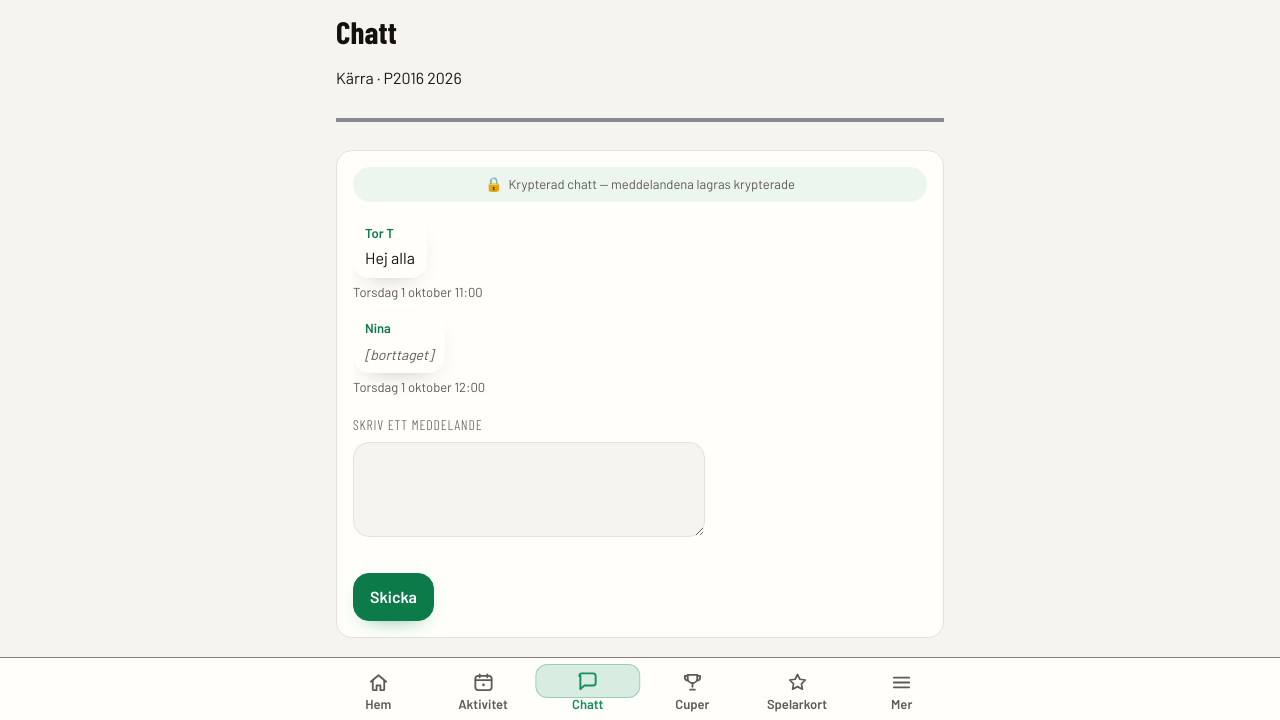
Test: trupp-chatt › anmälan kräver en motivering och POST:ar den, med kvitto
This screenshot has width=1280, height=720.
// Valen ligger bakom långtryck-menyn nu — öppna den från bubblan (högerklick/kontextmeny).
Right-click the button "Tor T Hej alla" at (390, 247), box [353,216,427,278]
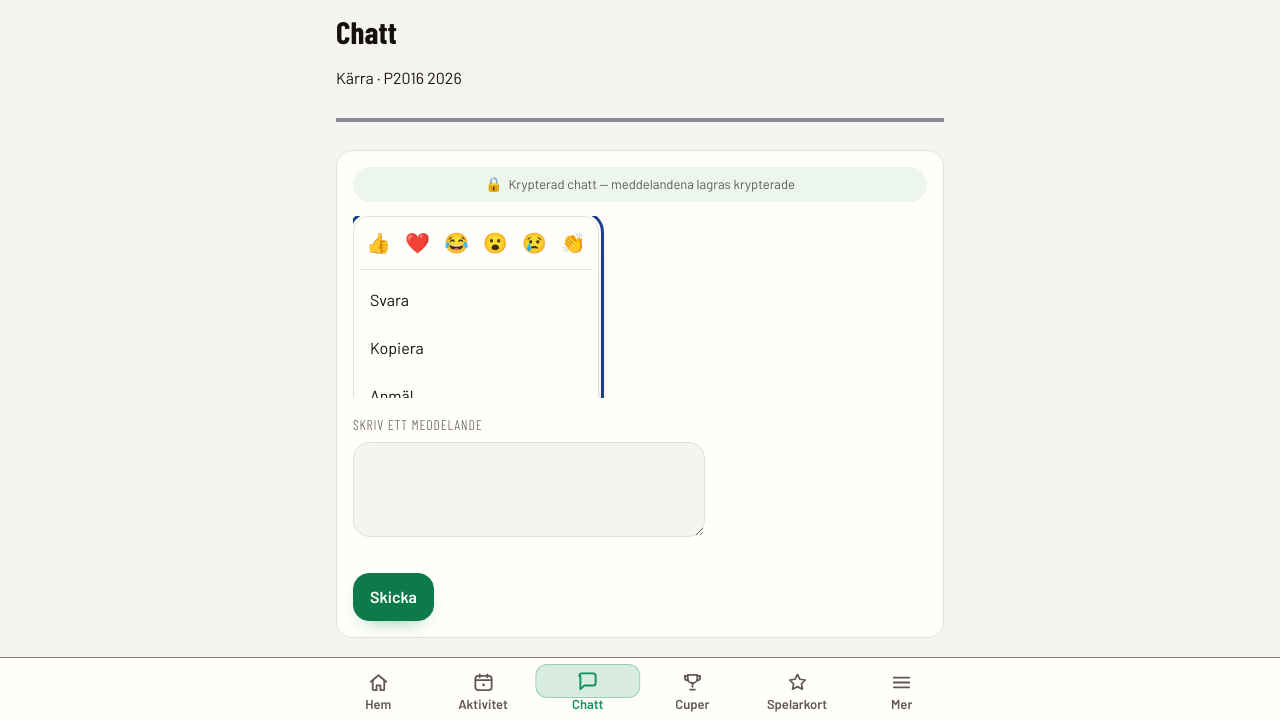
Click the button "Anmäl" at (476, 396), box [360,372,592,420]
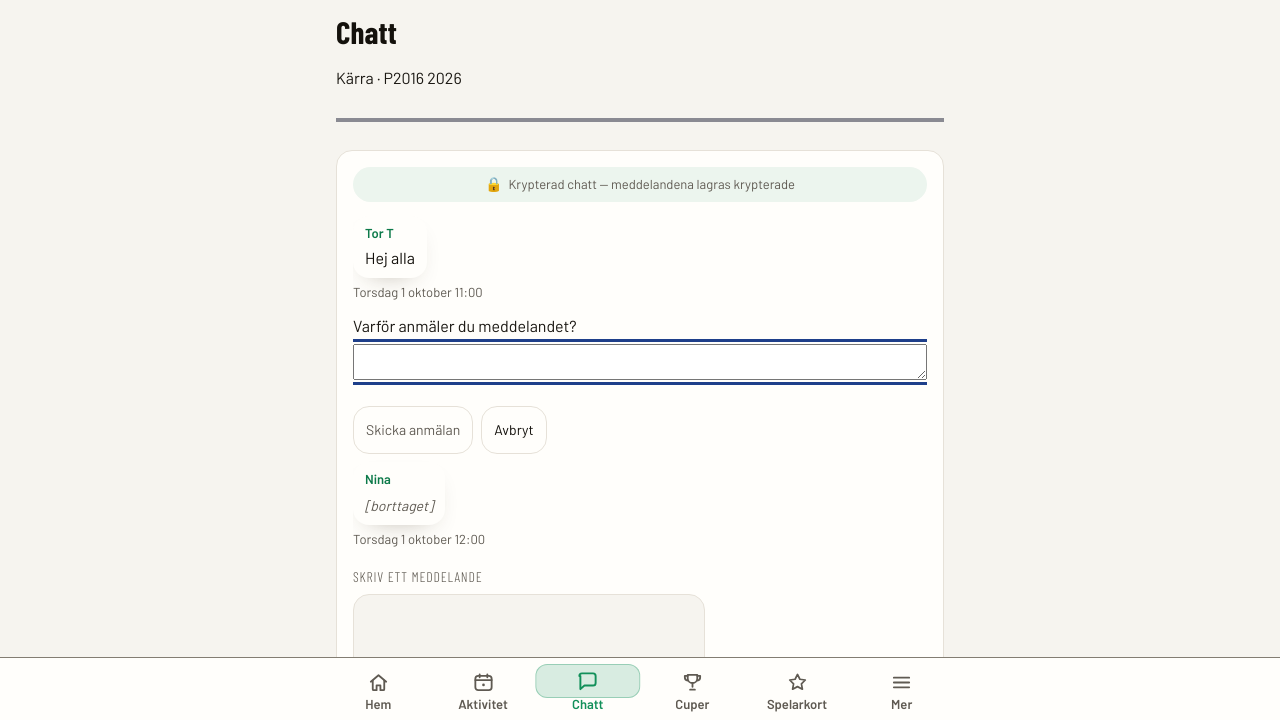
Expected: the button "Skicka anmälan" is disabled, [353,406,473,454]
Type "Stötande språk" into the text box labelled "Varför anmäler du meddelandet?" at (640, 362), box [353,344,927,380]
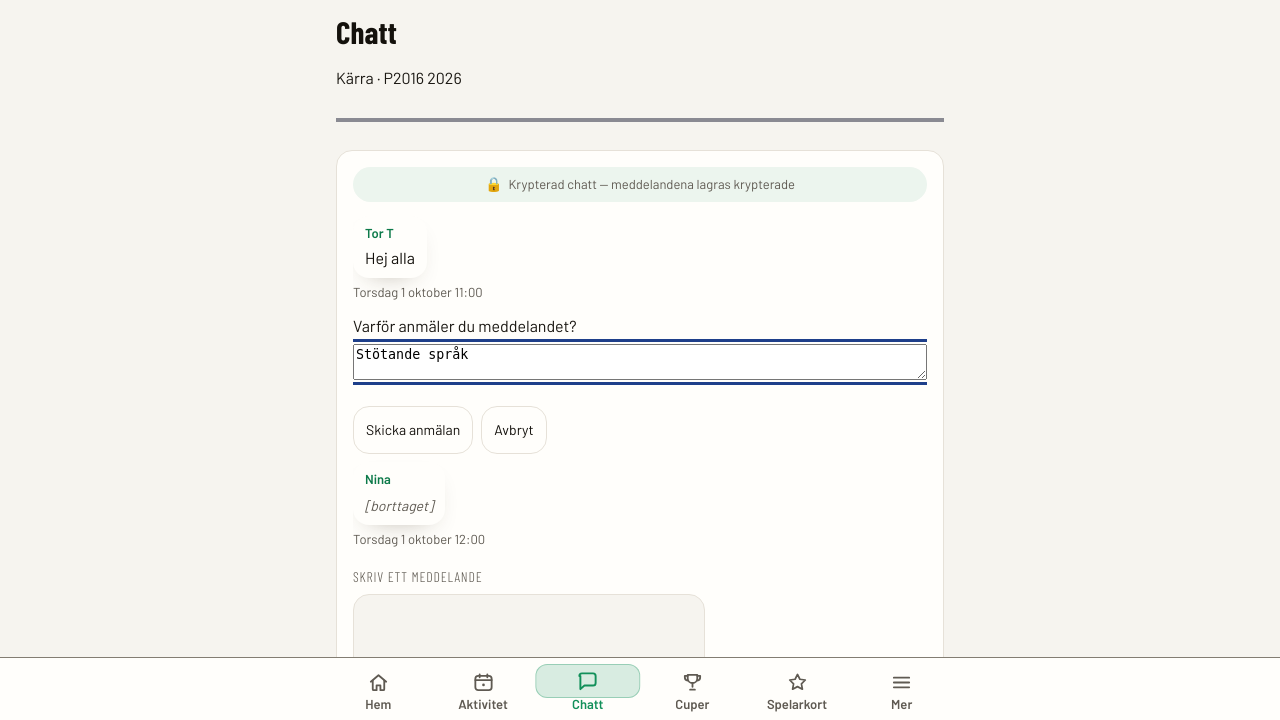
Click the button "Skicka anmälan" at (413, 430), box [353,406,473,454]
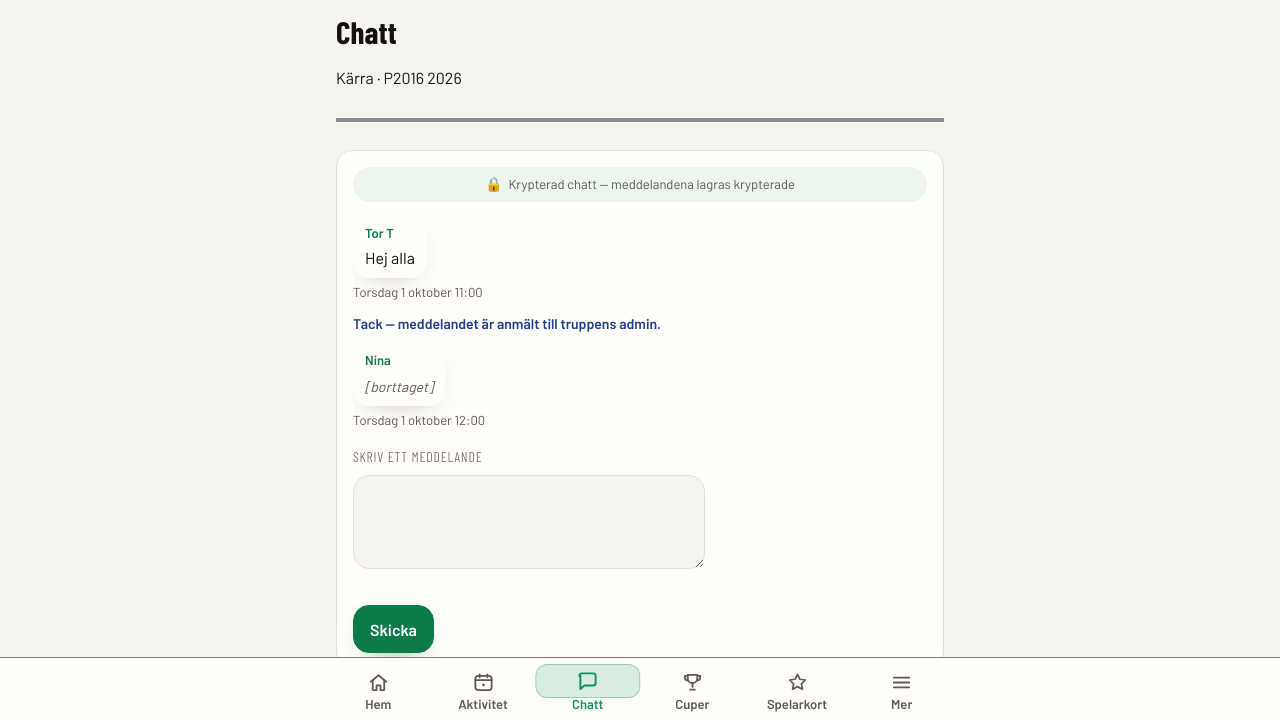
Expected: the text "Tack — meddelandet är anmält till truppens admin." is shown, [353,315,661,332]
